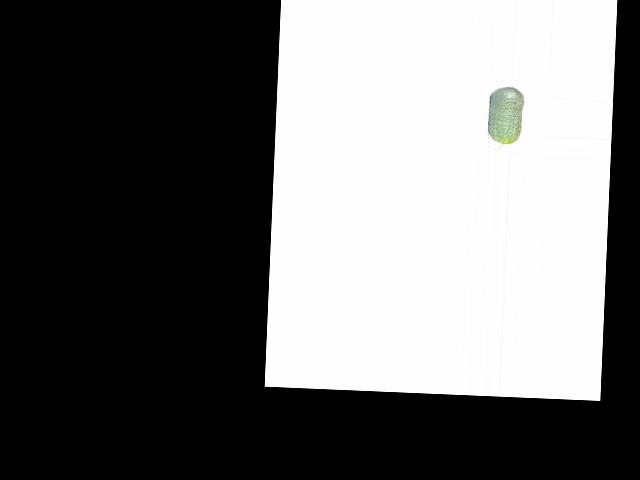cucumber: (487, 86, 524, 151)
